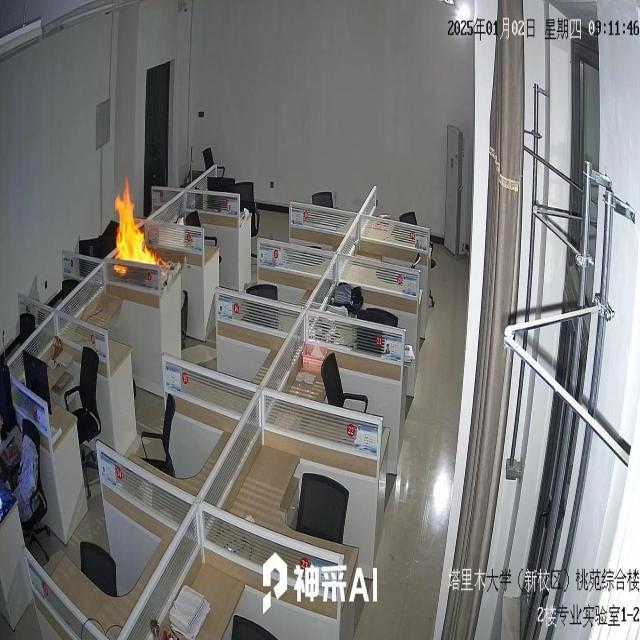smoke: (111, 175, 161, 280)
